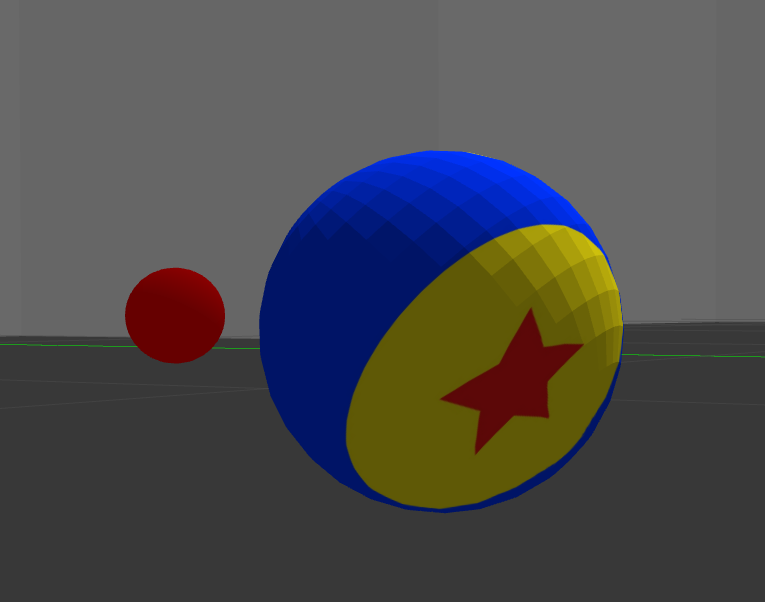toy_story_ball: (256, 149, 624, 516)
